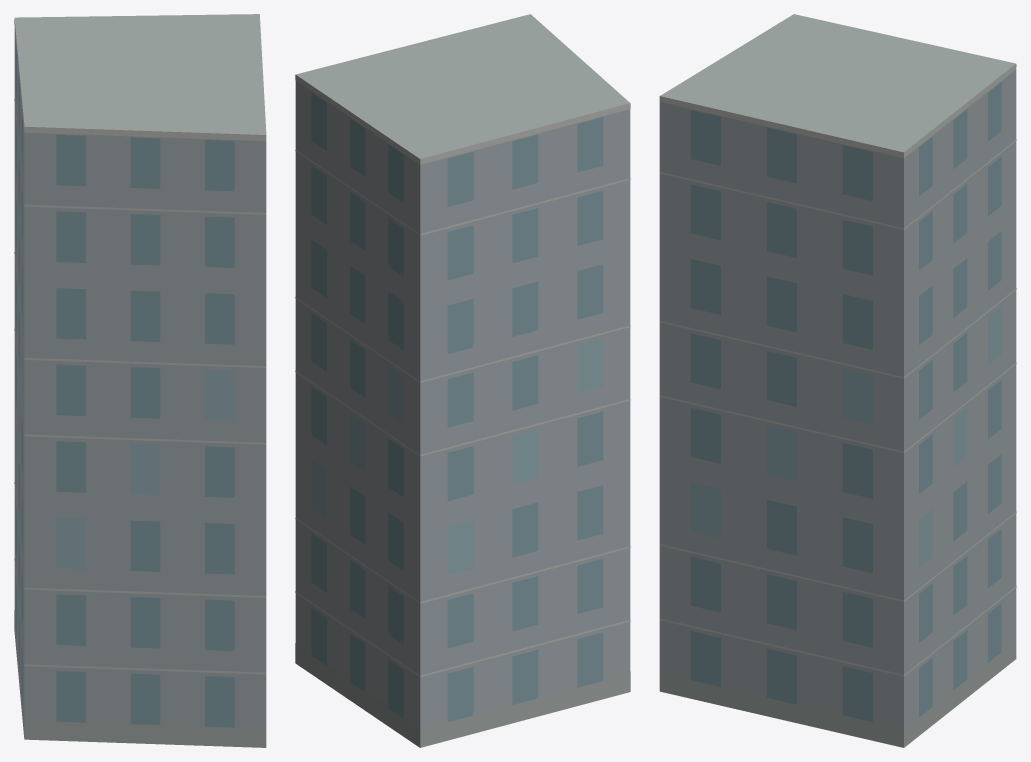
Rendered from survey-upis-33000048.glb.
The picture shows the model from 3 angles, left to right: view 1: azimuth 30°, elevation 25°; view 2: azimuth 150°, elevation 25°; view 3: azimuth 270°, elevation 25°; orthographic projection. The views are drawn at different scales.
Visible parts, largest first — view 1: survey-upis-33000048.tmp; view 2: survey-upis-33000048.tmp; view 3: survey-upis-33000048.tmp.
Boxes of the visible parts, x1=… form: survey-upis-33000048.tmp: x1=14, y1=14, x2=266, y2=747; survey-upis-33000048.tmp: x1=295, y1=14, x2=630, y2=747; survey-upis-33000048.tmp: x1=659, y1=14, x2=1016, y2=747.
Size of the model in its own units: 12.44 by 24.9 by 13.53.
